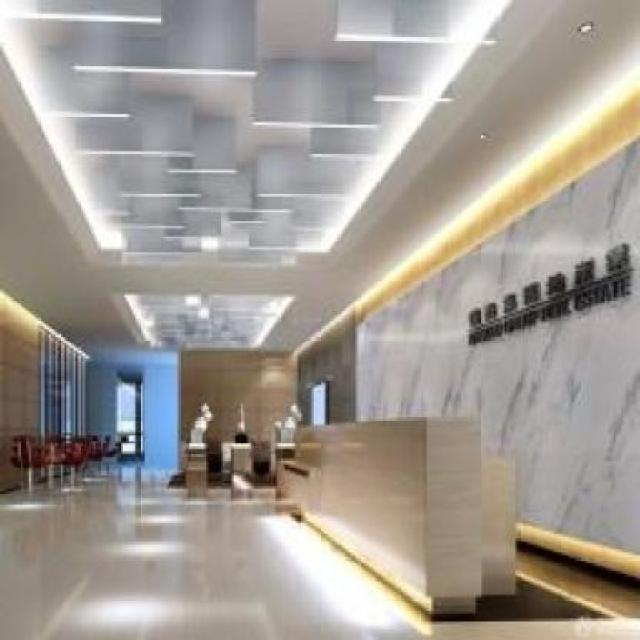frontdesk: (263, 406, 523, 626)
